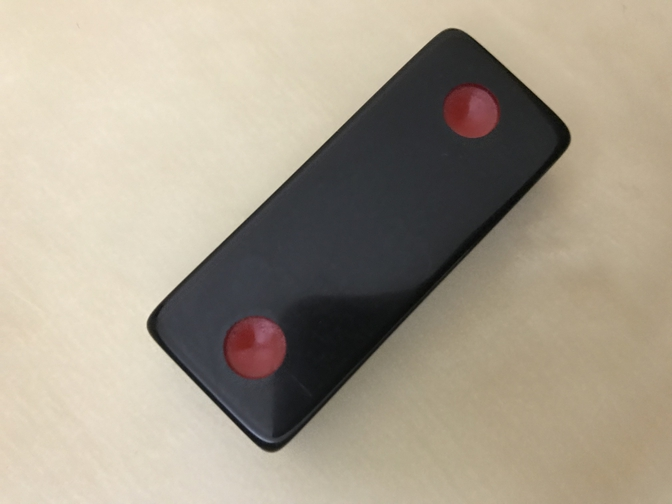earth: (146, 28, 571, 453)
